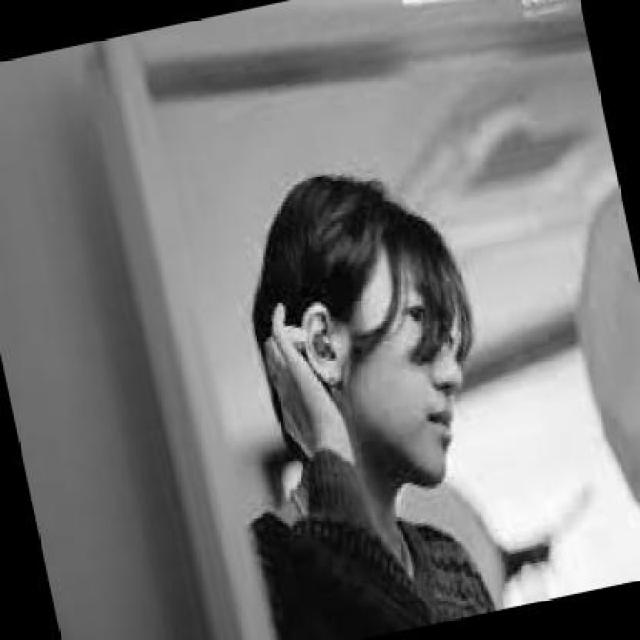earphone: (304, 311, 338, 376)
